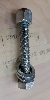FinishedAssembly: (11, 8, 41, 91)
